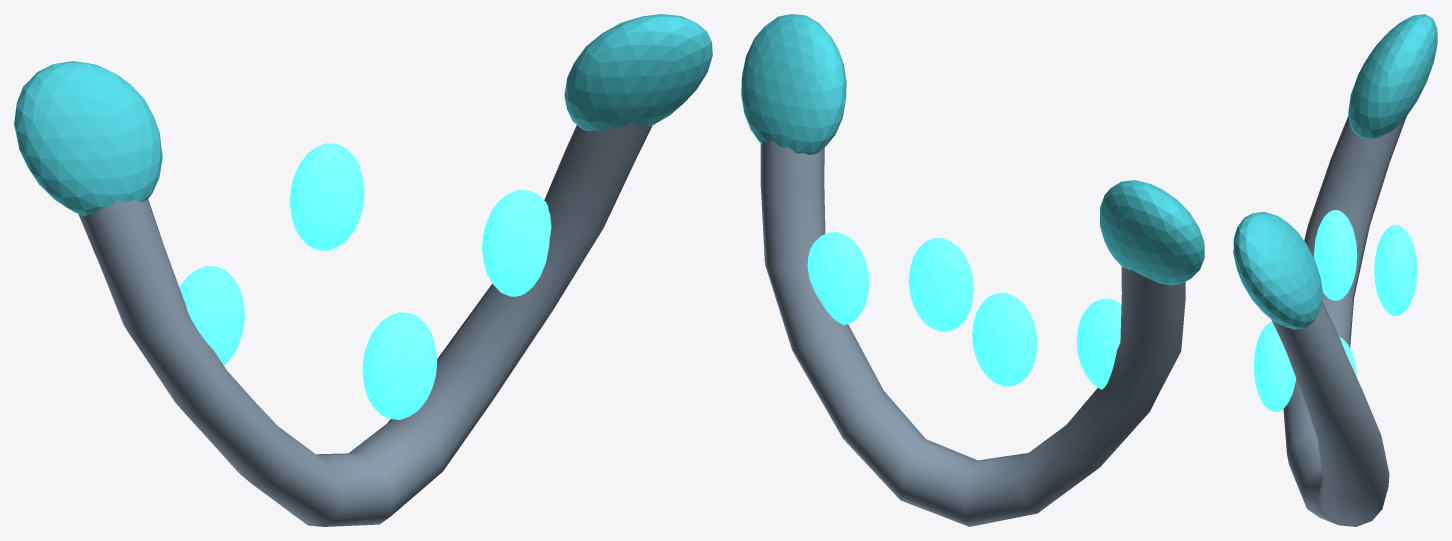
File: necklace_v8.glb
3 renders of one model, left to right at view 1: azimuth 30°, elevation 25°; view 2: azimuth 150°, elevation 25°; view 3: azimuth 270°, elevation 25°, orthographic. The views are drawn at different scales.
Parts seen in each view (by area): view 1: OPEN_TORQUE_PRIMARY, TORQUE_END_ACCENT, TORQUE_END_ACCENT.001, ASCENDANT_GEM_EMISSIVE.003, ASCENDANT_GEM_EMISSIVE.001, ASCENDANT_GEM_EMISSIVE, ASCENDANT_GEM_EMISSIVE.002; view 2: OPEN_TORQUE_PRIMARY, TORQUE_END_ACCENT.001, TORQUE_END_ACCENT, ASCENDANT_GEM_EMISSIVE.003, ASCENDANT_GEM_EMISSIVE.001, ASCENDANT_GEM_EMISSIVE, ASCENDANT_GEM_EMISSIVE.002; view 3: OPEN_TORQUE_PRIMARY, TORQUE_END_ACCENT.001, TORQUE_END_ACCENT, ASCENDANT_GEM_EMISSIVE.001, ASCENDANT_GEM_EMISSIVE.002, ASCENDANT_GEM_EMISSIVE.003.
Boxes of the visible parts, bbox=[...] form: OPEN_TORQUE_PRIMARY: bbox=[78, 123, 652, 526]; TORQUE_END_ACCENT: bbox=[14, 61, 162, 216]; TORQUE_END_ACCENT.001: bbox=[564, 14, 712, 131]; ASCENDANT_GEM_EMISSIVE.003: bbox=[362, 312, 437, 419]; ASCENDANT_GEM_EMISSIVE.001: bbox=[289, 143, 364, 250]; ASCENDANT_GEM_EMISSIVE: bbox=[482, 189, 551, 296]; ASCENDANT_GEM_EMISSIVE.002: bbox=[179, 265, 244, 365]; OPEN_TORQUE_PRIMARY: bbox=[760, 140, 1185, 526]; TORQUE_END_ACCENT.001: bbox=[741, 14, 846, 154]; TORQUE_END_ACCENT: bbox=[1100, 180, 1204, 285]; ASCENDANT_GEM_EMISSIVE.003: bbox=[972, 292, 1037, 386]; ASCENDANT_GEM_EMISSIVE.001: bbox=[908, 238, 973, 331]; ASCENDANT_GEM_EMISSIVE: bbox=[807, 232, 869, 325]; ASCENDANT_GEM_EMISSIVE.002: bbox=[1076, 298, 1121, 389]; OPEN_TORQUE_PRIMARY: bbox=[1271, 115, 1406, 526]; TORQUE_END_ACCENT.001: bbox=[1233, 211, 1322, 329]; TORQUE_END_ACCENT: bbox=[1348, 14, 1437, 139]; ASCENDANT_GEM_EMISSIVE.001: bbox=[1374, 225, 1417, 315]; ASCENDANT_GEM_EMISSIVE.002: bbox=[1314, 210, 1357, 300]; ASCENDANT_GEM_EMISSIVE.003: bbox=[1253, 321, 1296, 411].
Size of the model in its own units: 2.4 by 1.84 by 0.8482.
